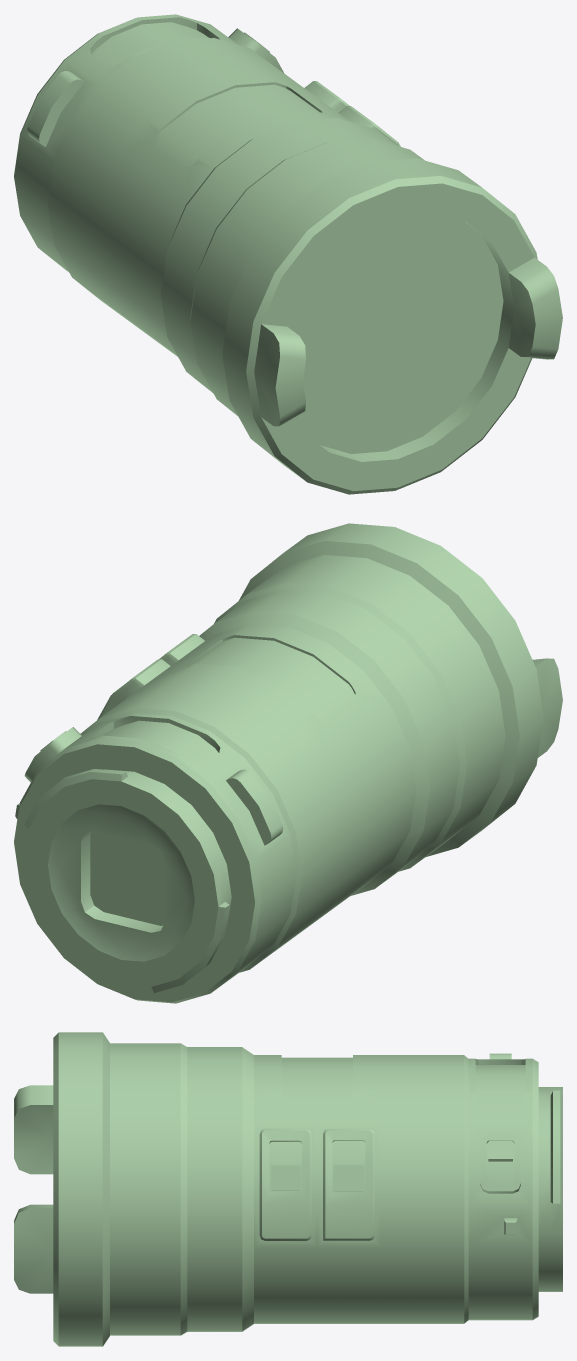
The model's file is Modern Zoom Lens Simple.fbx.
The picture shows the model from 3 angles, top to bottom: view 1: azimuth 30°, elevation 25°; view 2: azimuth 150°, elevation 25°; view 3: azimuth 270°, elevation 25°; orthographic projection. The views are drawn at different scales.
Parts seen in each view (by area): view 1: Cylinder; view 2: Cylinder; view 3: Cylinder.
Part boxes in pixels (<box>): Cylinder: <box>14,14,562,494</box>; Cylinder: <box>14,523,562,1003</box>; Cylinder: <box>14,1032,562,1346</box>.
Bounding box in the file's own units: 9.87 × 9.87 × 17.1.
